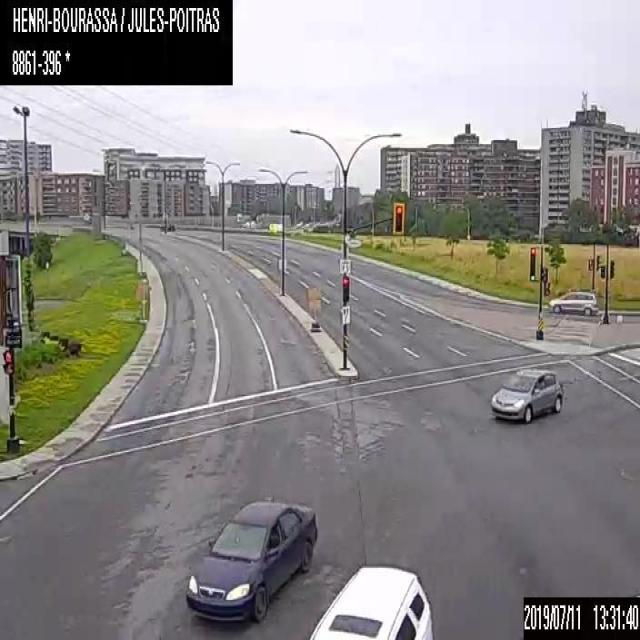vehicle: (185, 497, 317, 623), (306, 560, 434, 639), (489, 367, 563, 424), (549, 289, 598, 315)
